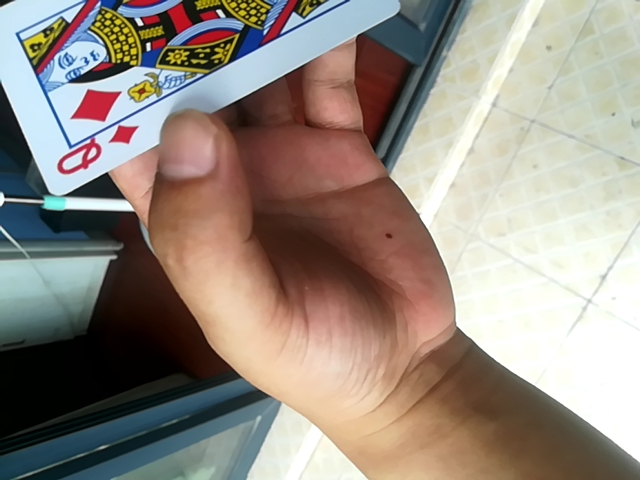fk q: (1, 0, 423, 205)
